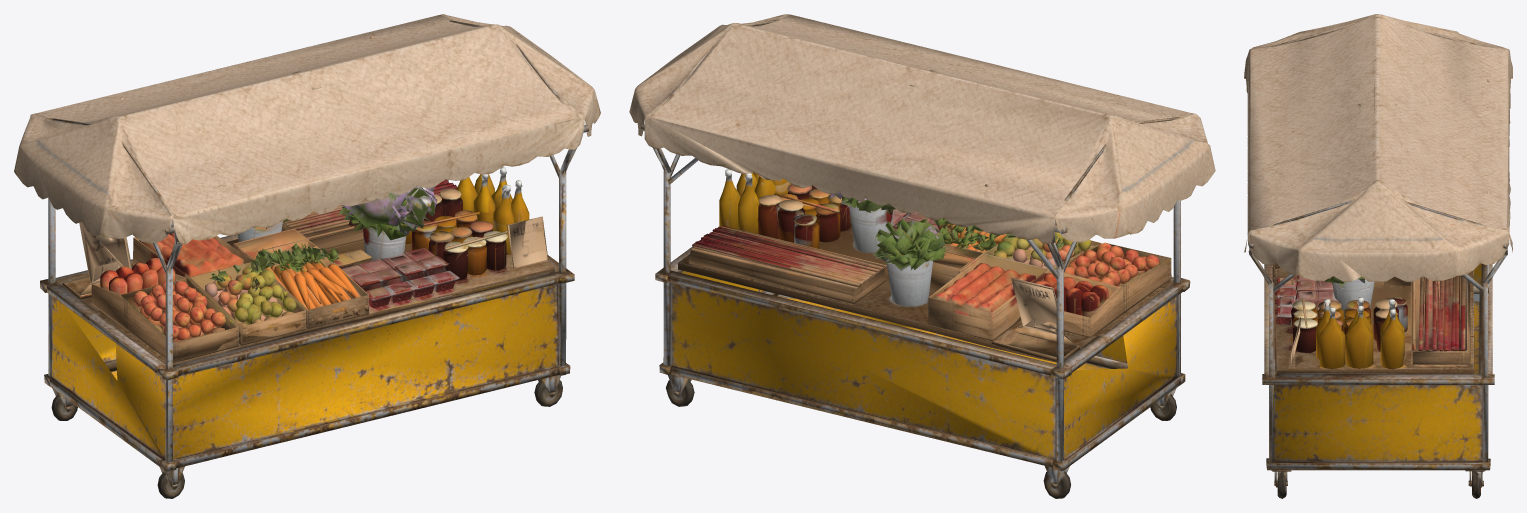
File: torikoju_hedelmat_keltainen_meshy.glb
3 renders of one model, left to right at view 1: azimuth 30°, elevation 25°; view 2: azimuth 150°, elevation 25°; view 3: azimuth 270°, elevation 25°, orthographic. The views are drawn at different scales.
Size of the model in its own units: 3.05 by 2 by 1.55.
Materials: 1 (1 with a texture image).
